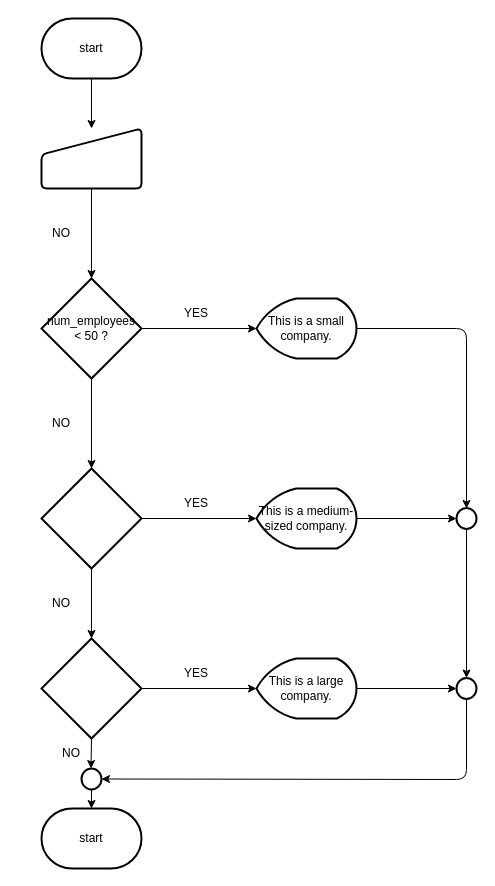
Image size: 495x886. Some labels were removed from this diagram. Each missing label, with the box of its shape:
Enter the number of employees:num_employees: (40, 127, 142, 189)
num_employees < 250 ?: (40, 467, 142, 569)
num_employees >= 250 ?: (40, 637, 142, 739)
